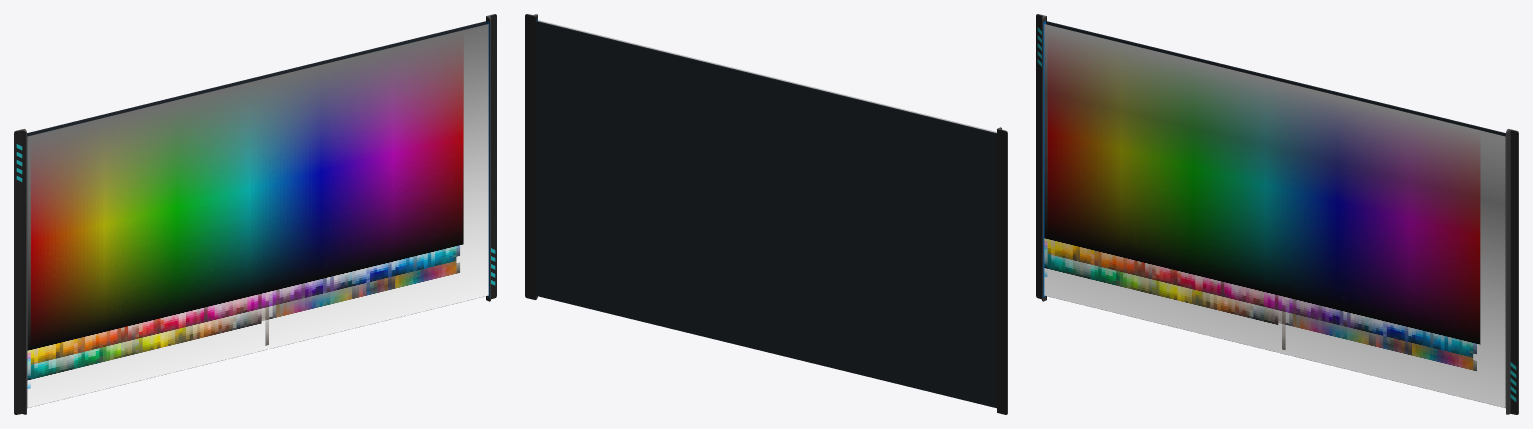
The model's file is MOb_Display_001.fbx.
3 renders of one model, left to right at view 1: azimuth 30°, elevation 25°; view 2: azimuth 150°, elevation 25°; view 3: azimuth 330°, elevation 25°, orthographic.
Visible parts, largest first — view 1: MOb_Display_001_screen, MOb_Display_001; view 2: MOb_Display_001, MOb_Display_001_screen; view 3: MOb_Display_001_screen, MOb_Display_001.
Part boxes in pixels (x1,y1,x2,y2): MOb_Display_001_screen: [27, 24, 488, 407]; MOb_Display_001: [14, 14, 496, 414]; MOb_Display_001: [525, 14, 1007, 414]; MOb_Display_001_screen: [538, 20, 996, 132]; MOb_Display_001_screen: [1044, 24, 1505, 407]; MOb_Display_001: [1036, 14, 1518, 414].
Bounding box in the file's own units: 3.35 × 0.0423 × 1.88.
3 materials, 3 textured.
